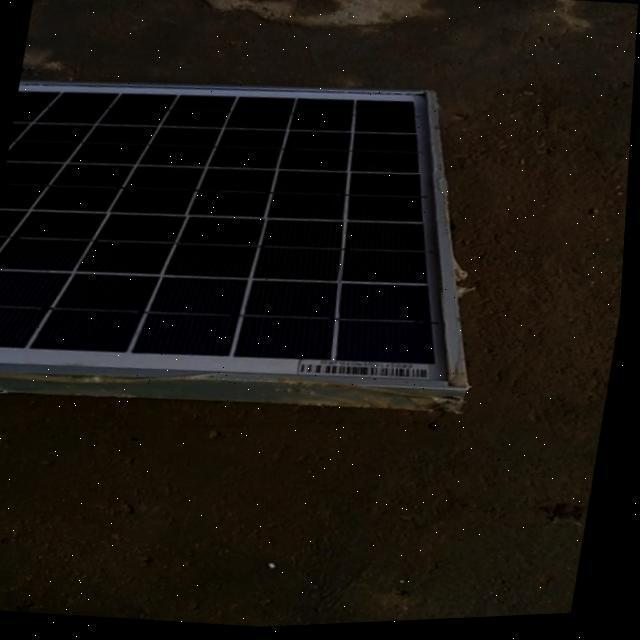Normal Solar Panel: (0, 52, 511, 420)
